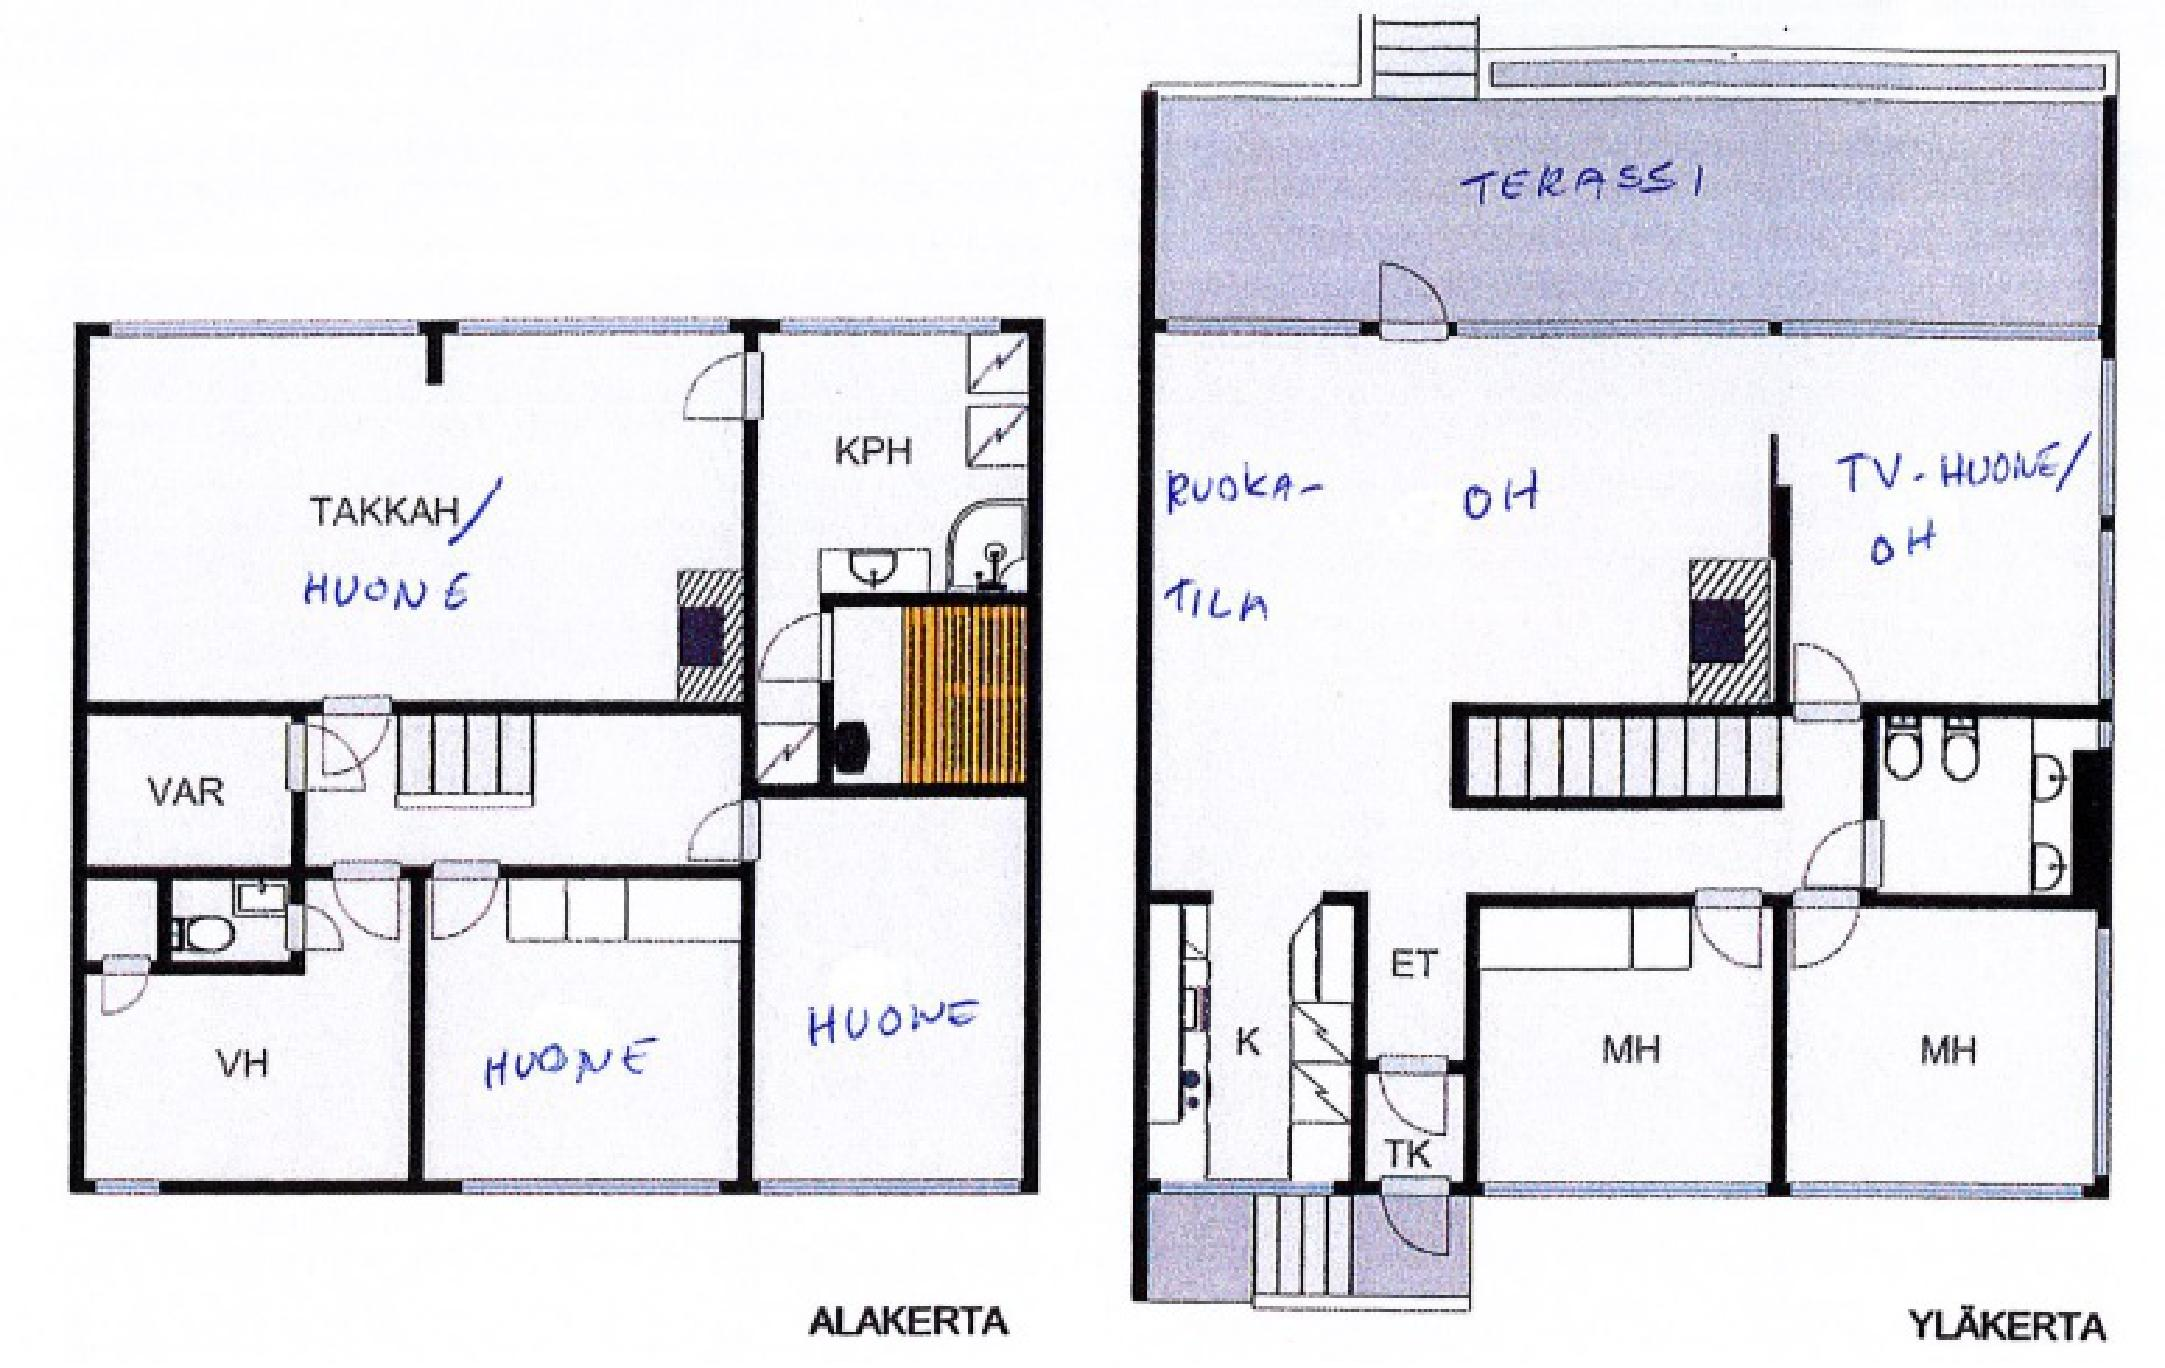door: (284, 717, 381, 796), (1383, 1169, 1461, 1262), (1688, 890, 1763, 977), (1379, 258, 1458, 337), (1380, 1051, 1454, 1133), (334, 859, 403, 946), (1796, 823, 1885, 890), (1795, 645, 1866, 725), (432, 867, 504, 942), (325, 693, 395, 771), (676, 356, 761, 419), (1793, 897, 1858, 969), (759, 616, 827, 678), (681, 801, 752, 854), (284, 900, 339, 961), (102, 954, 151, 1010)
window: (1164, 310, 1377, 347), (2096, 933, 2119, 1177), (1777, 318, 2086, 336), (109, 320, 411, 337), (1487, 1180, 1757, 1199), (775, 317, 1005, 339), (466, 1180, 720, 1199), (1149, 1174, 1341, 1198), (455, 314, 720, 329), (1451, 320, 1776, 333), (2096, 364, 2122, 507), (2096, 534, 2119, 693), (755, 1180, 1015, 1195), (1799, 1184, 2074, 1196), (98, 1177, 173, 1196), (2097, 720, 2108, 749)
zone: (1155, 337, 1858, 890), (93, 333, 726, 693), (1155, 87, 2097, 322), (755, 329, 1023, 783), (1777, 336, 2096, 697), (752, 796, 1027, 1177), (87, 883, 413, 1177), (1144, 879, 1462, 1177), (436, 883, 737, 1184), (1796, 909, 2089, 1185), (1483, 906, 1766, 1180), (312, 725, 734, 872), (1155, 1191, 1462, 1303), (832, 604, 1018, 780), (1886, 720, 2070, 887), (87, 720, 280, 859), (1363, 894, 1458, 1054), (1372, 1073, 1473, 1166), (176, 878, 280, 968), (84, 876, 158, 961)
